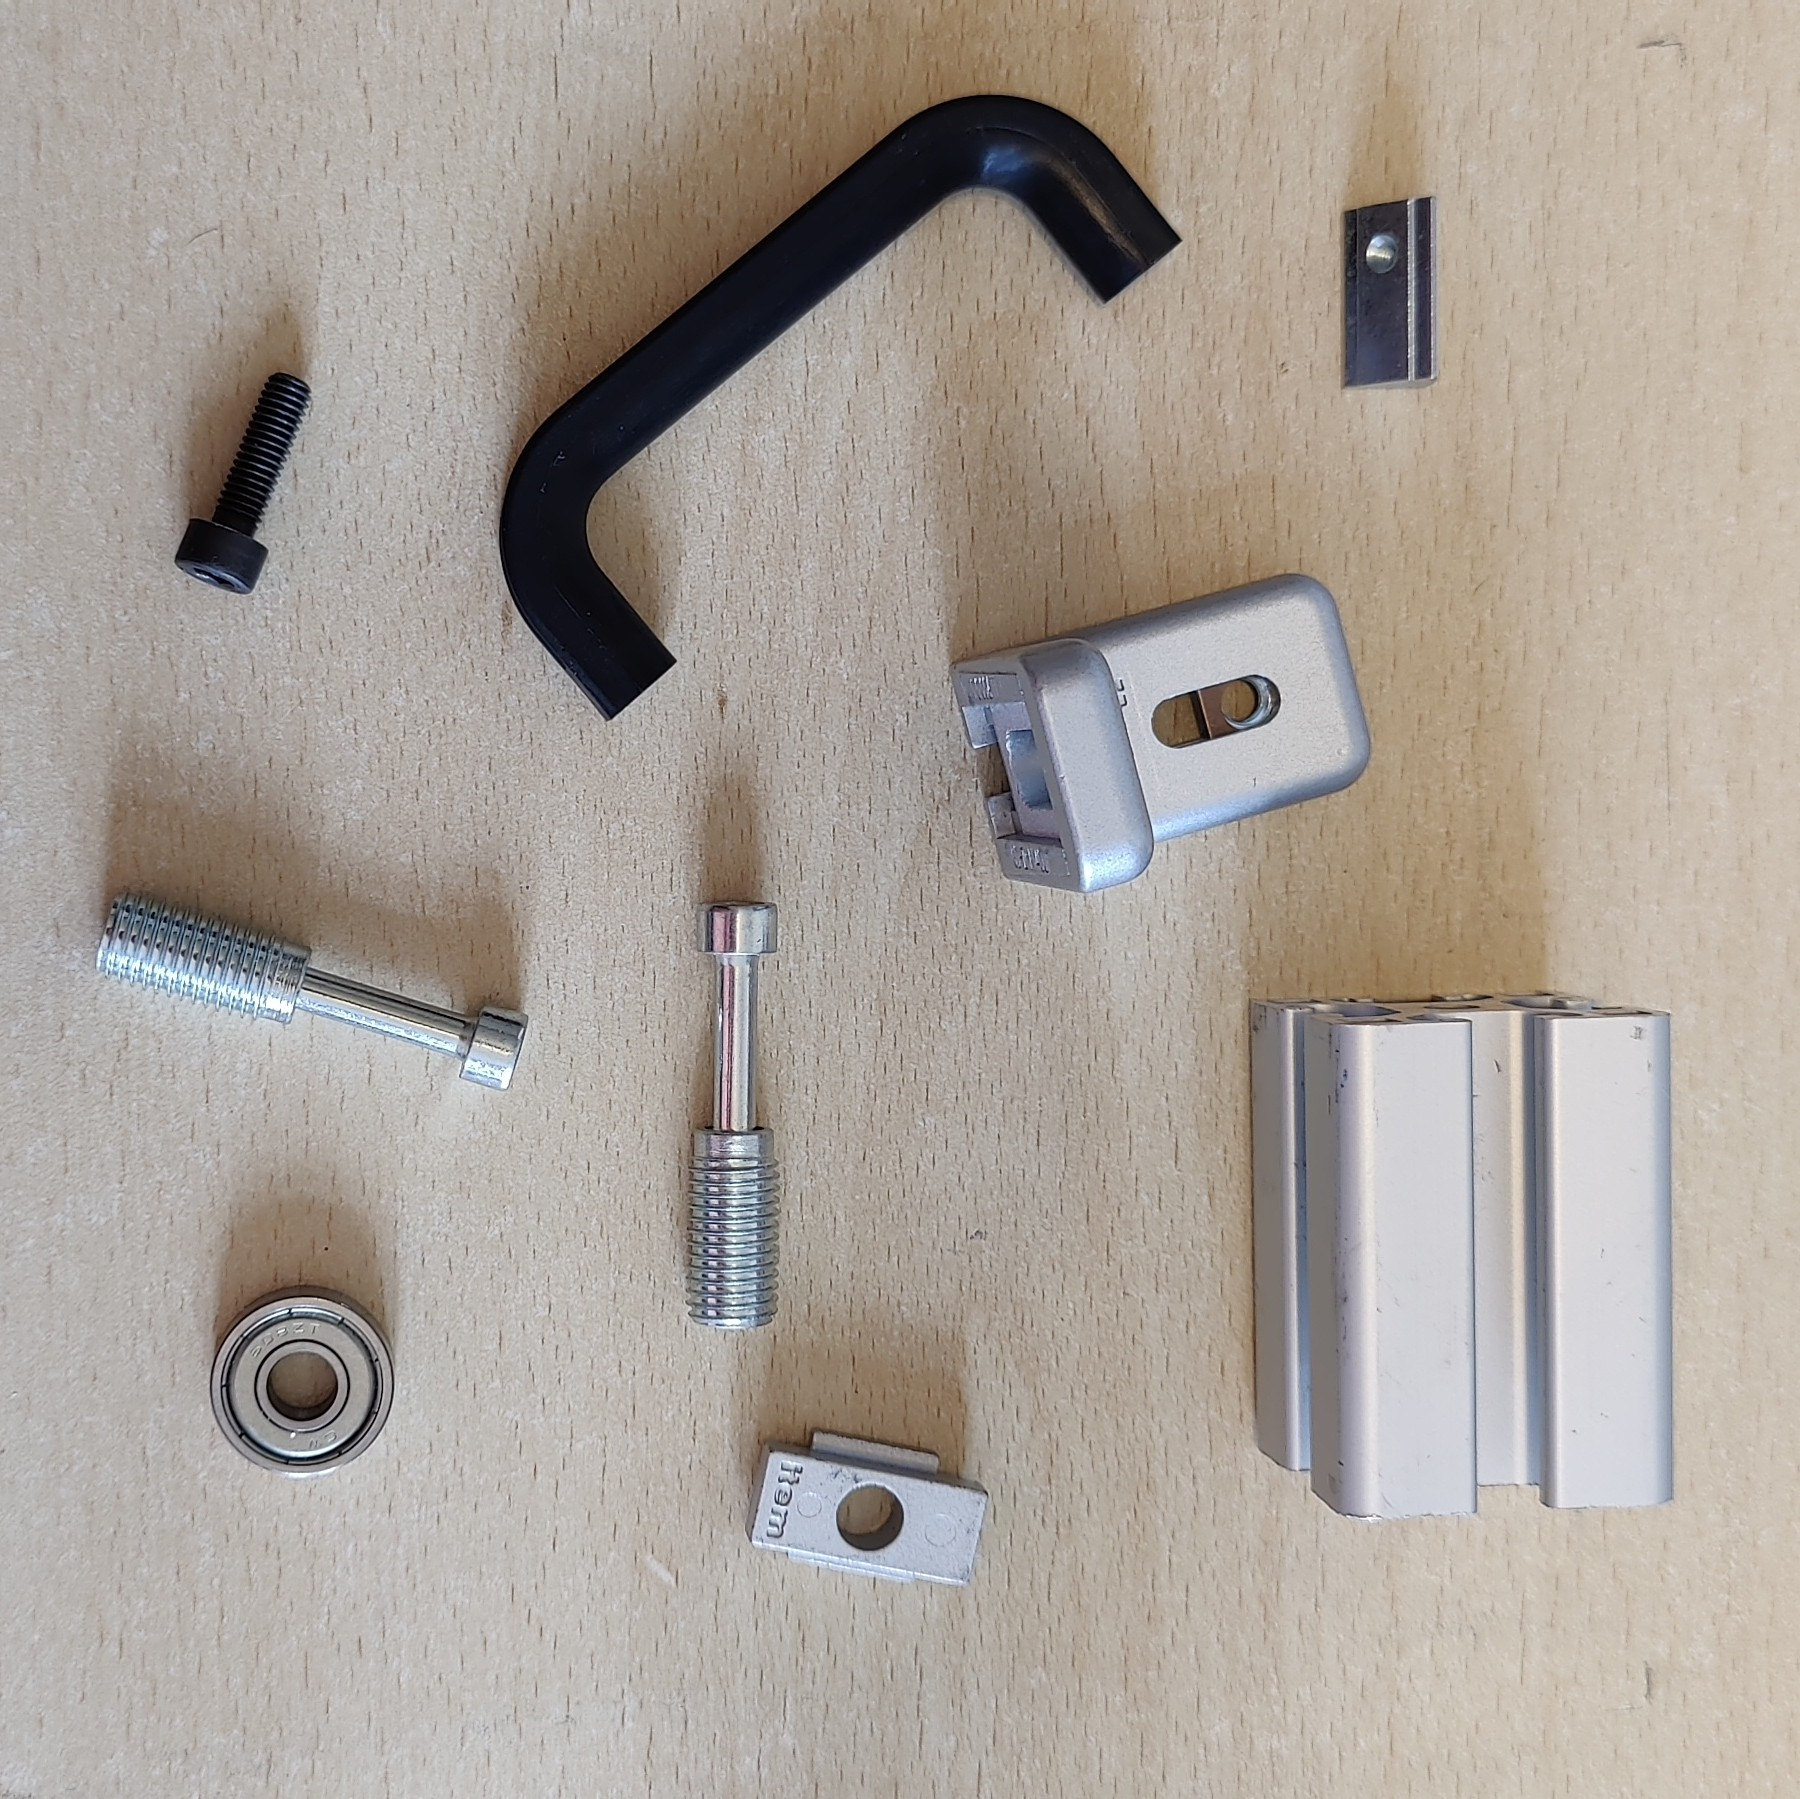Aluminium Extension: (1242, 984, 1681, 1522)
Ball Bearing: (206, 1280, 399, 1479)
Multiwinkel: (945, 568, 1375, 896)
Pull Handle: (497, 91, 1186, 725)
Shoulder Socket Head Cap Screw: (91, 883, 530, 1096), (682, 896, 786, 1334)
Socket Head Cap Screw: (171, 367, 315, 596)
T Nut Square: (743, 1422, 990, 1590)
T Spring Nut: (1332, 191, 1444, 394)
